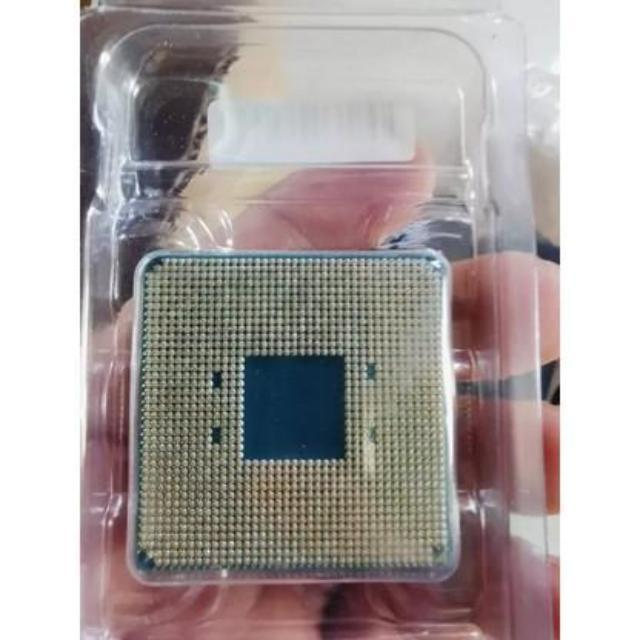CPU: (128, 243, 462, 586)
